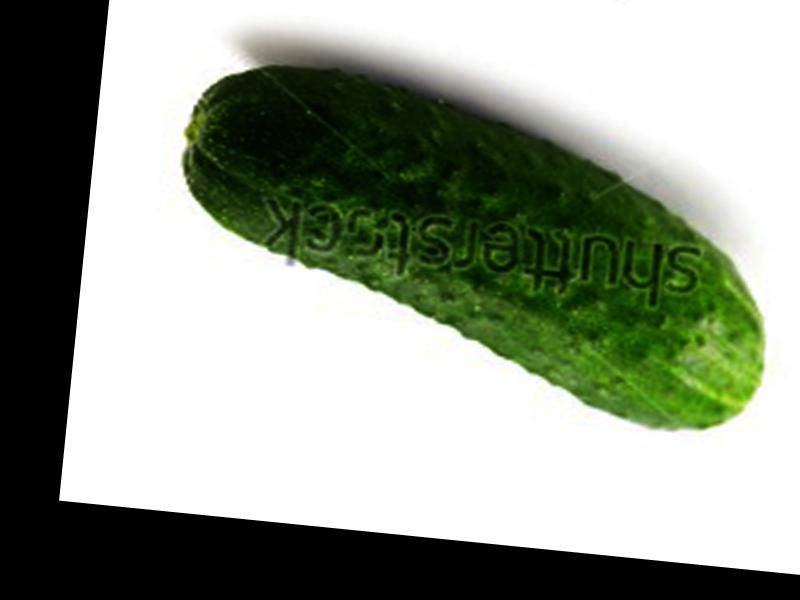Cucumber: (162, 54, 788, 439)
